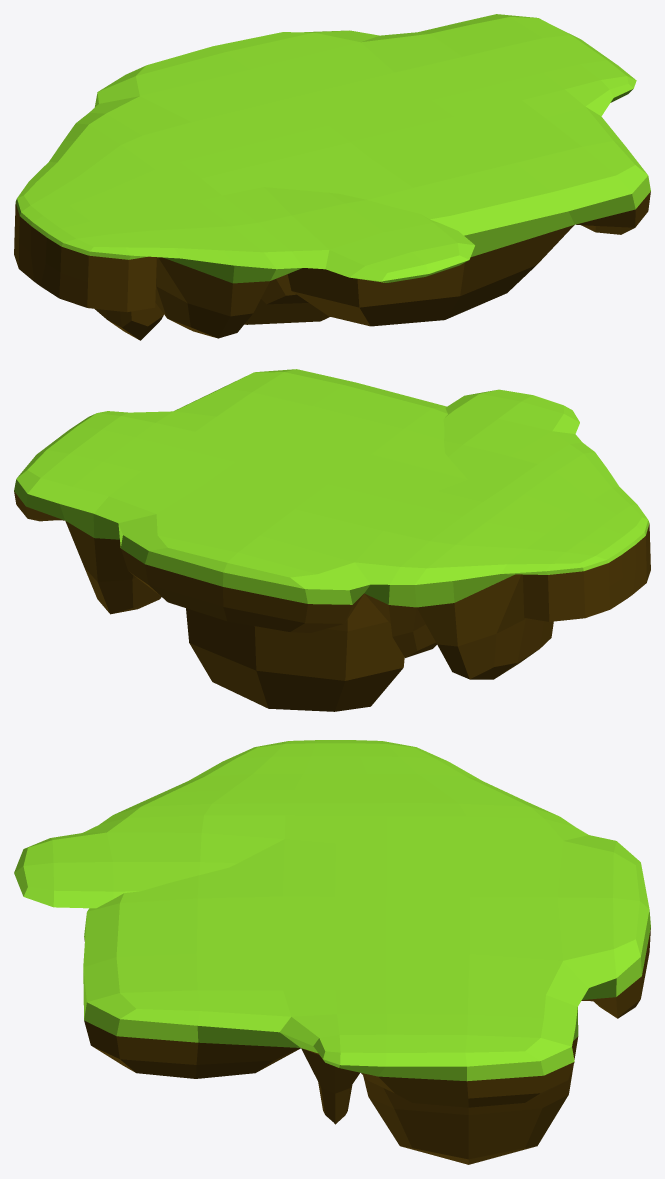
Rendered from badMadeIsland.fbx.
The picture shows the model from 3 angles, top to bottom: view 1: azimuth 30°, elevation 25°; view 2: azimuth 150°, elevation 25°; view 3: azimuth 270°, elevation 25°; orthographic projection. The views are drawn at different scales.
Parts seen in each view (by area): view 1: Cube; view 2: Cube; view 3: Cube.
Part boxes in pixels (x1,y1,x2,y2): Cube: (14, 14, 650, 340); Cube: (14, 369, 650, 711); Cube: (14, 740, 650, 1164).
Bounding box in the file's own units: 3811 × 1325 × 3129.
